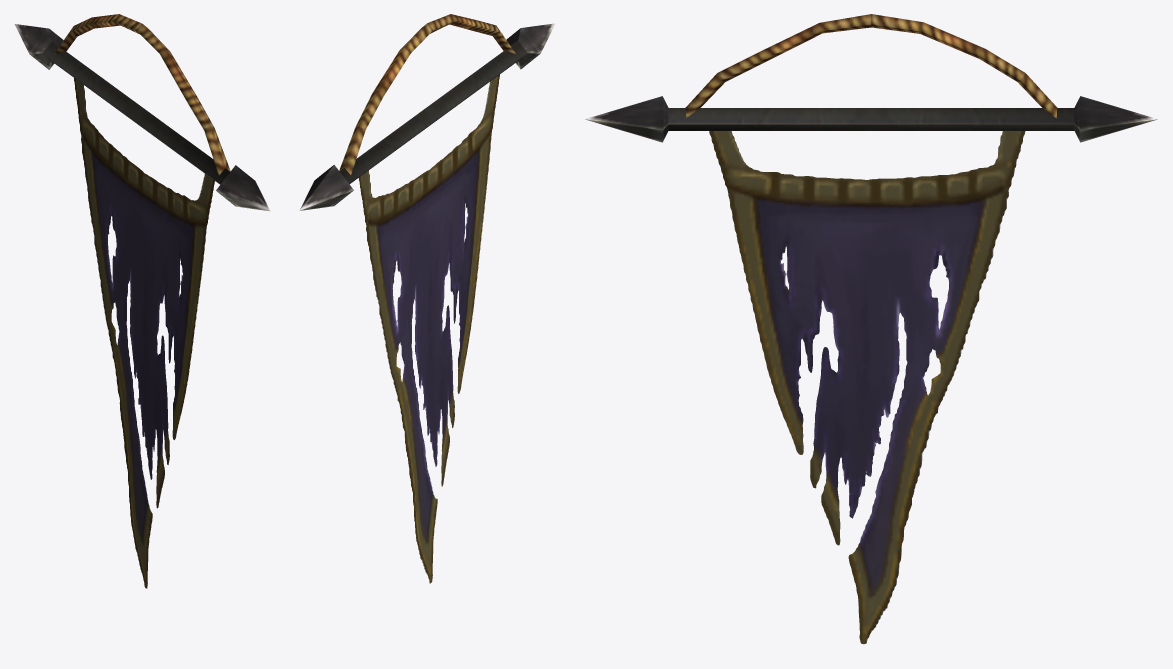
Rendered from Time limit_frag_01.FBX.
3 views of the same model, side by side, from view 1: azimuth 30°, elevation 25°; view 2: azimuth 150°, elevation 25°; view 3: azimuth 270°, elevation 25° (orthographic). The views are drawn at different scales.
Visible parts, largest first — view 1: Time limit_frag_01_02, Time limit_frag_01_01; view 2: Time limit_frag_01_02, Time limit_frag_01_01; view 3: Time limit_frag_01_02, Time limit_frag_01_01.
Part boxes in pixels (bbox=[...]): Time limit_frag_01_02: bbox=[74, 78, 214, 588]; Time limit_frag_01_01: bbox=[14, 14, 269, 211]; Time limit_frag_01_02: bbox=[359, 74, 499, 583]; Time limit_frag_01_01: bbox=[299, 14, 555, 210]; Time limit_frag_01_02: bbox=[709, 131, 1025, 644]; Time limit_frag_01_01: bbox=[585, 14, 1157, 142].
Bounding box in the file's own units: 0.44 × 6.05 × 4.91.
